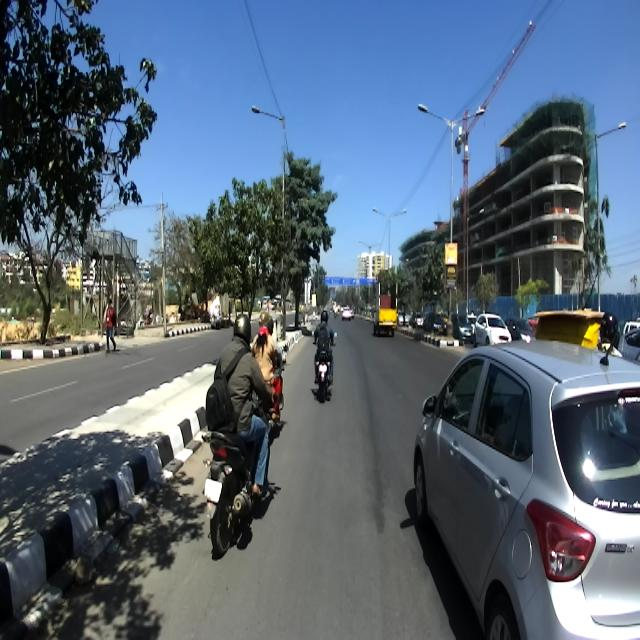car ahead at: (412, 342, 640, 640)
motorcycle ahead at: (206, 424, 274, 550)
